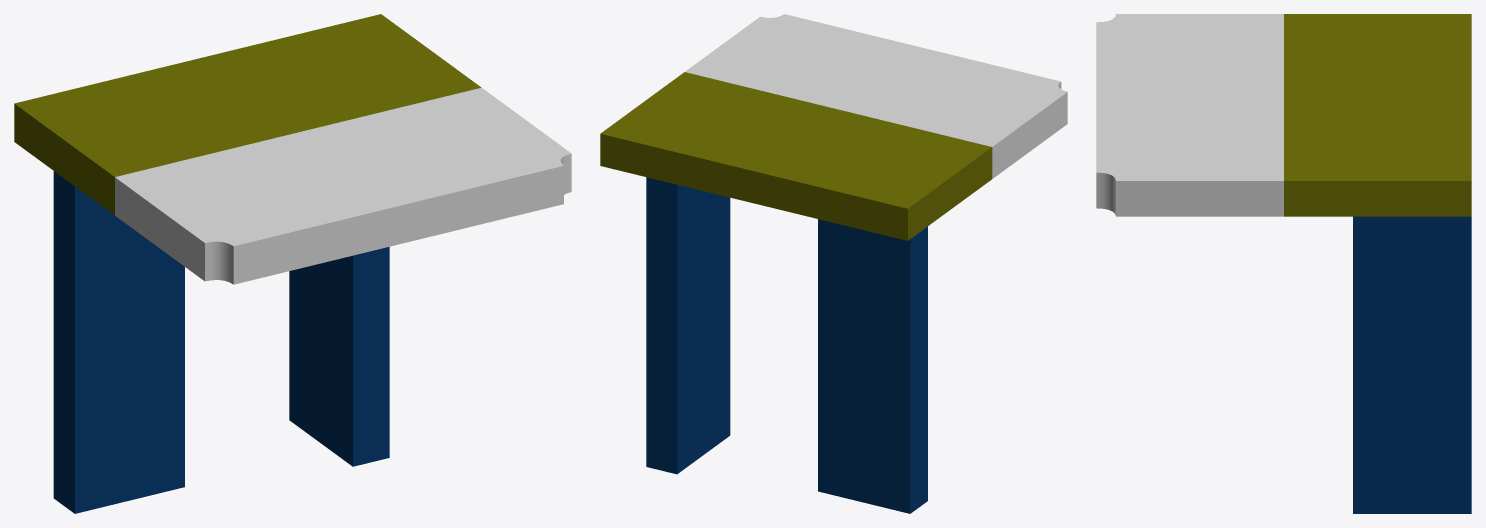
File: Pillar_04_C_L.fbx
3 views of the same model, side by side, from view 1: azimuth 30°, elevation 25°; view 2: azimuth 150°, elevation 25°; view 3: azimuth 270°, elevation 25° (orthographic). The views are drawn at different scales.
Parts seen in each view (by area): view 1: 4, 2, 3, 1; view 2: 4, 2, 3, 1; view 3: 2, 1, 4, 3.
Part boxes in pixels (x1,y1,x2,y2): 4: [14, 59, 297, 513]; 2: [198, 14, 481, 466]; 3: [115, 132, 398, 284]; 1: [298, 87, 571, 244]; 4: [754, 109, 992, 513]; 2: [600, 72, 837, 474]; 3: [838, 48, 1067, 178]; 1: [685, 14, 922, 109]; 2: [1284, 97, 1471, 513]; 1: [1096, 97, 1283, 216]; 4: [1284, 14, 1471, 97]; 3: [1096, 14, 1283, 97].
Size of the model in its own units: 200 by 200 by 190.
